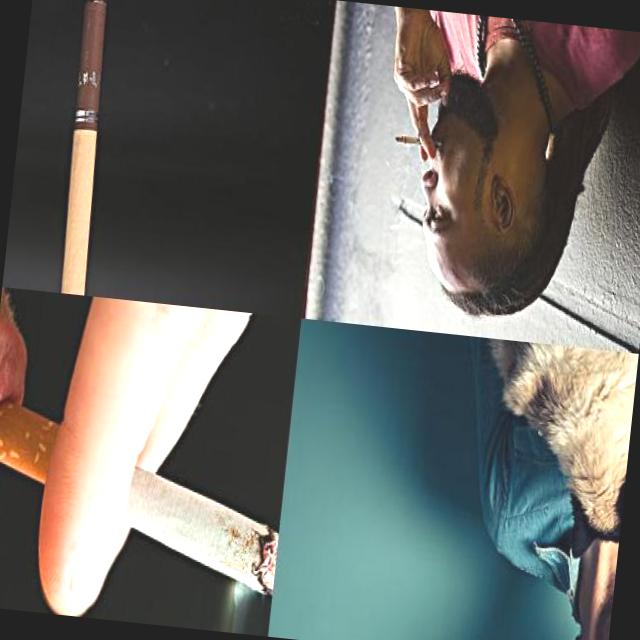smoke: (0, 393, 288, 634), (47, 0, 127, 296), (391, 123, 444, 157)
